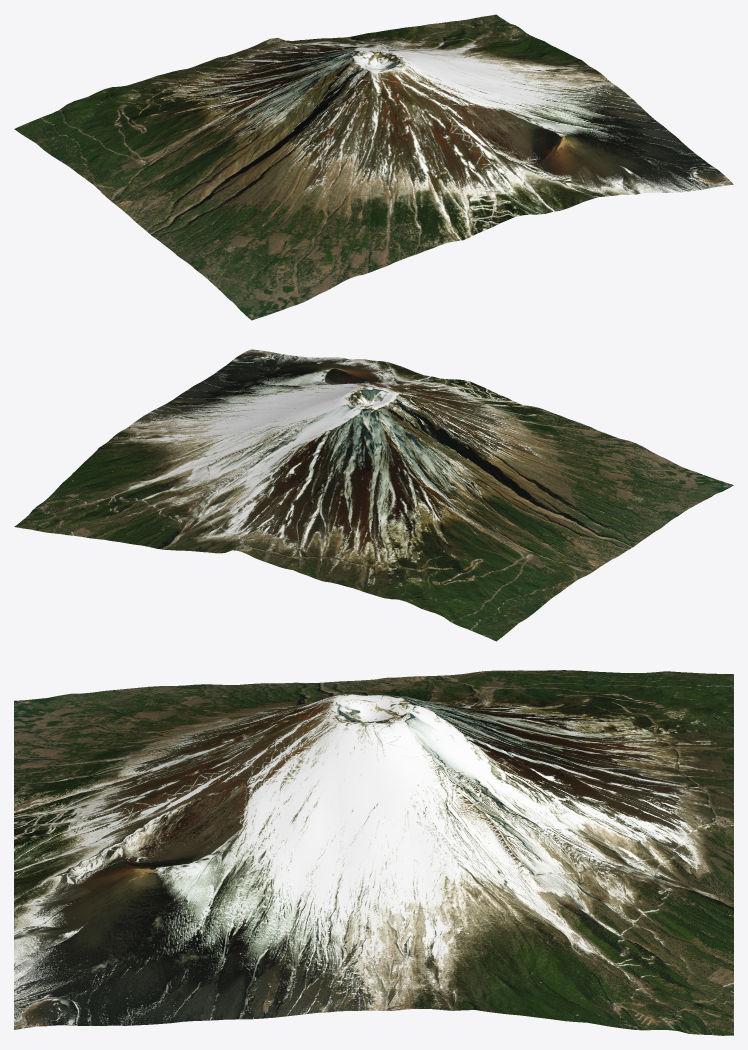
Rendered from composite.glb.
The picture shows the model from 3 angles, top to bottom: view 1: azimuth 30°, elevation 25°; view 2: azimuth 150°, elevation 25°; view 3: azimuth 270°, elevation 25°; orthographic projection. The views are drawn at different scales.
Parts seen in each view (by area): view 1: Object_2; view 2: Object_2; view 3: Object_2.
Boxes of the visible parts, <box> form: Object_2: <box>14,14,733,320</box>; Object_2: <box>14,349,733,641</box>; Object_2: <box>14,670,733,1035</box>.
Bounding box in the file's own units: 10395 × 2361 × 8867.
Materials: 1 (1 with a texture image).
